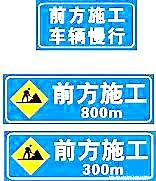sign: (4, 75, 153, 122), (6, 132, 154, 179), (37, 1, 135, 48)
